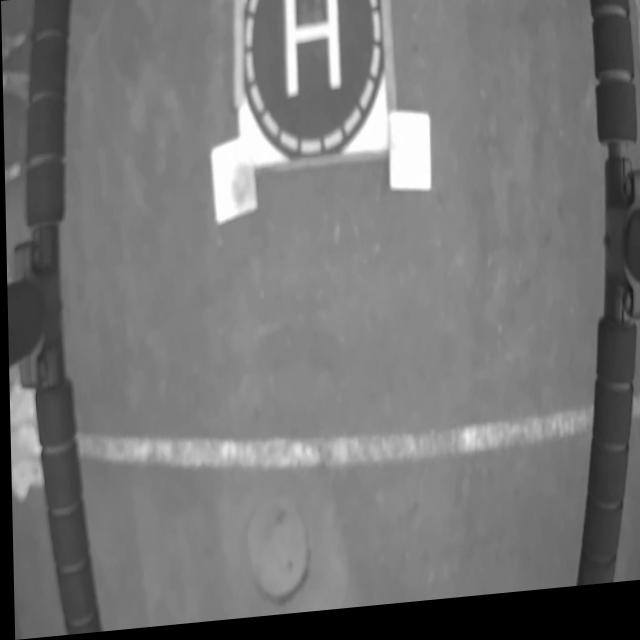Helipad: (283, 0, 339, 104)
